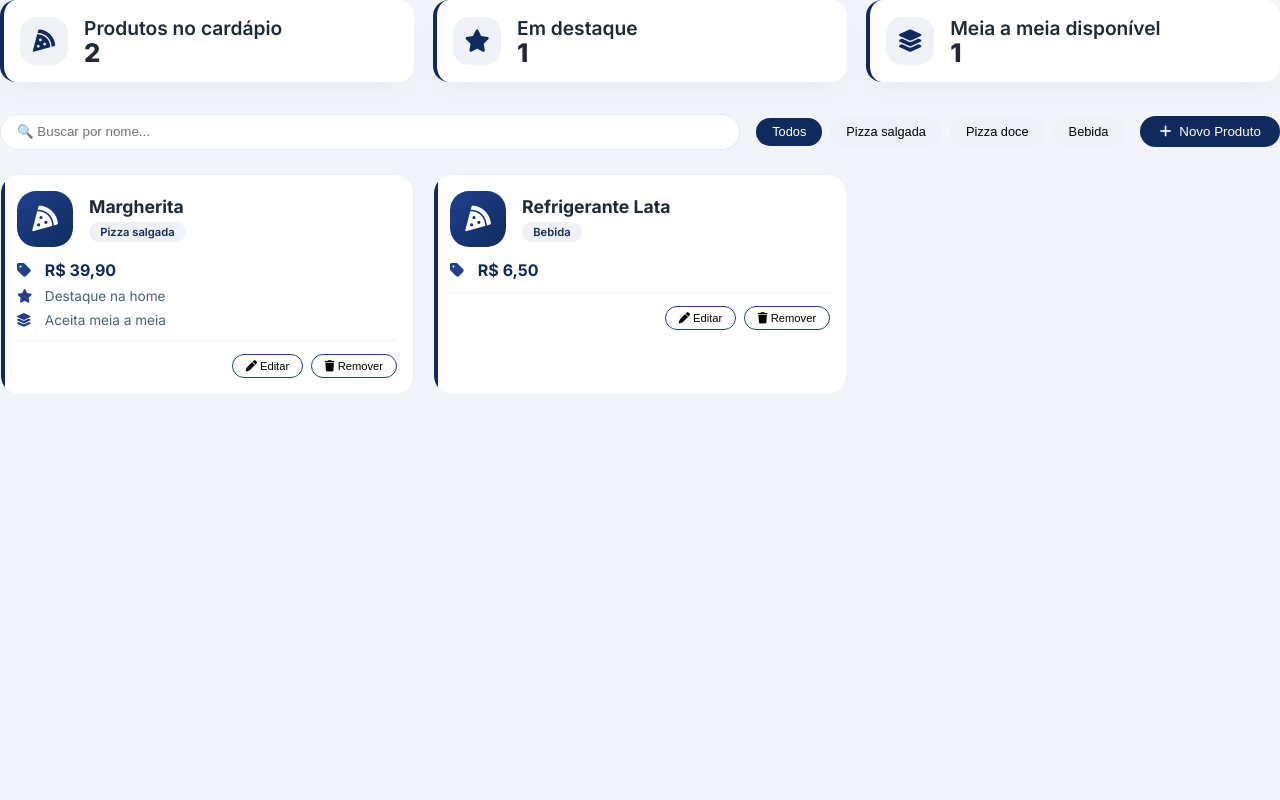
Test: ProductsSection (painel admin — cardápio) › salvar com falha do backend: mostra o erro e mantém o modal aberto
The width and height of the screenshot is (1280, 800).
expect the heading "Margherita" is shown: met, box left=89, top=196, right=186, bottom=217
Click the button "Novo Produto" at (1210, 132), box left=1140, top=116, right=1279, bottom=147
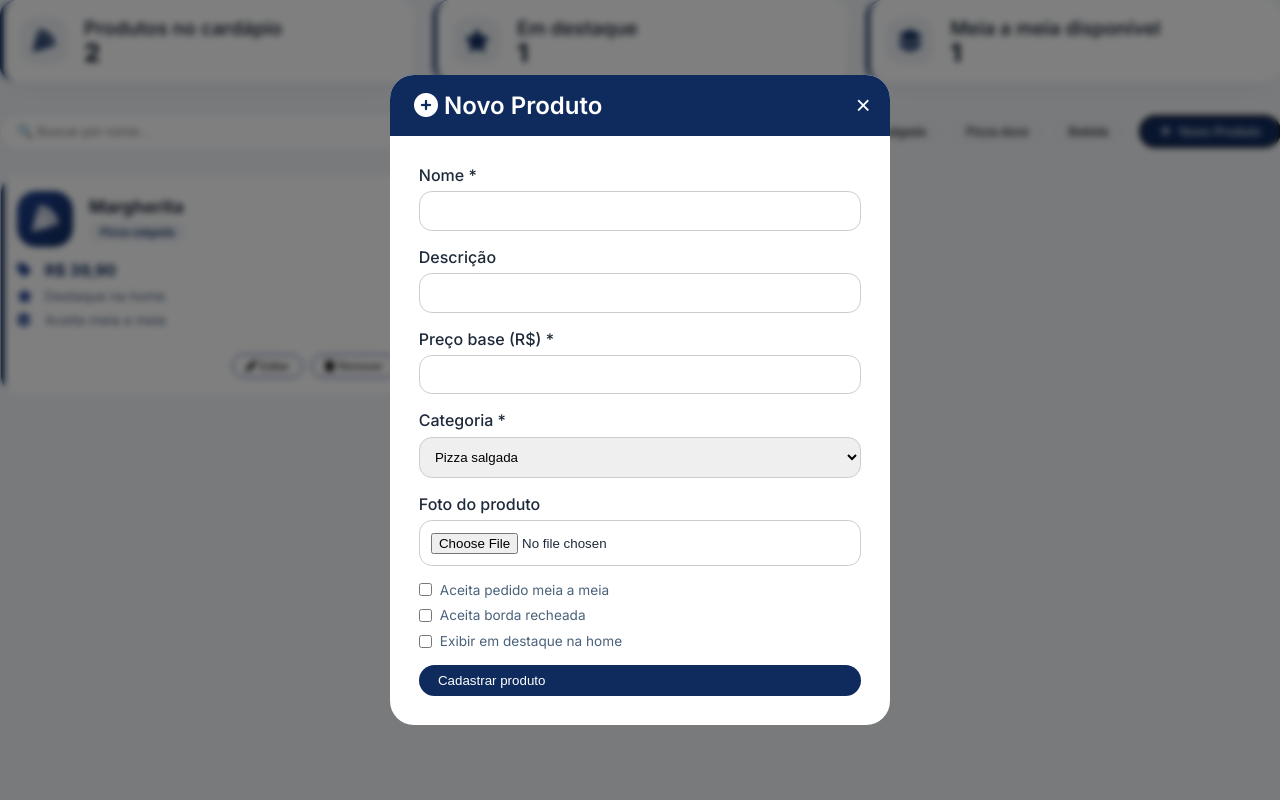
Type "Margherita" into the field labelled "Nome *" at (640, 211), box left=419, top=191, right=861, bottom=231
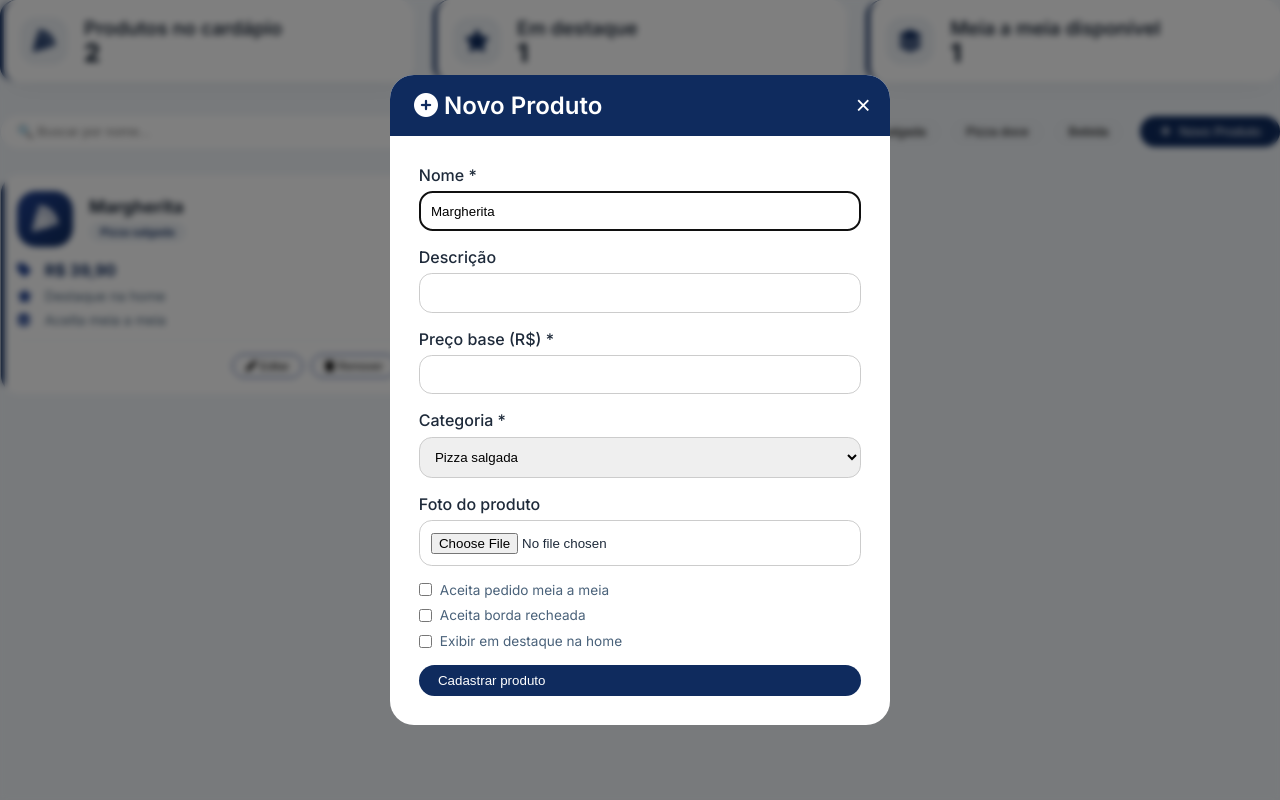
Type "39.9" into the number field labelled "Preço base (R$) *" at (640, 375), box left=419, top=355, right=861, bottom=394
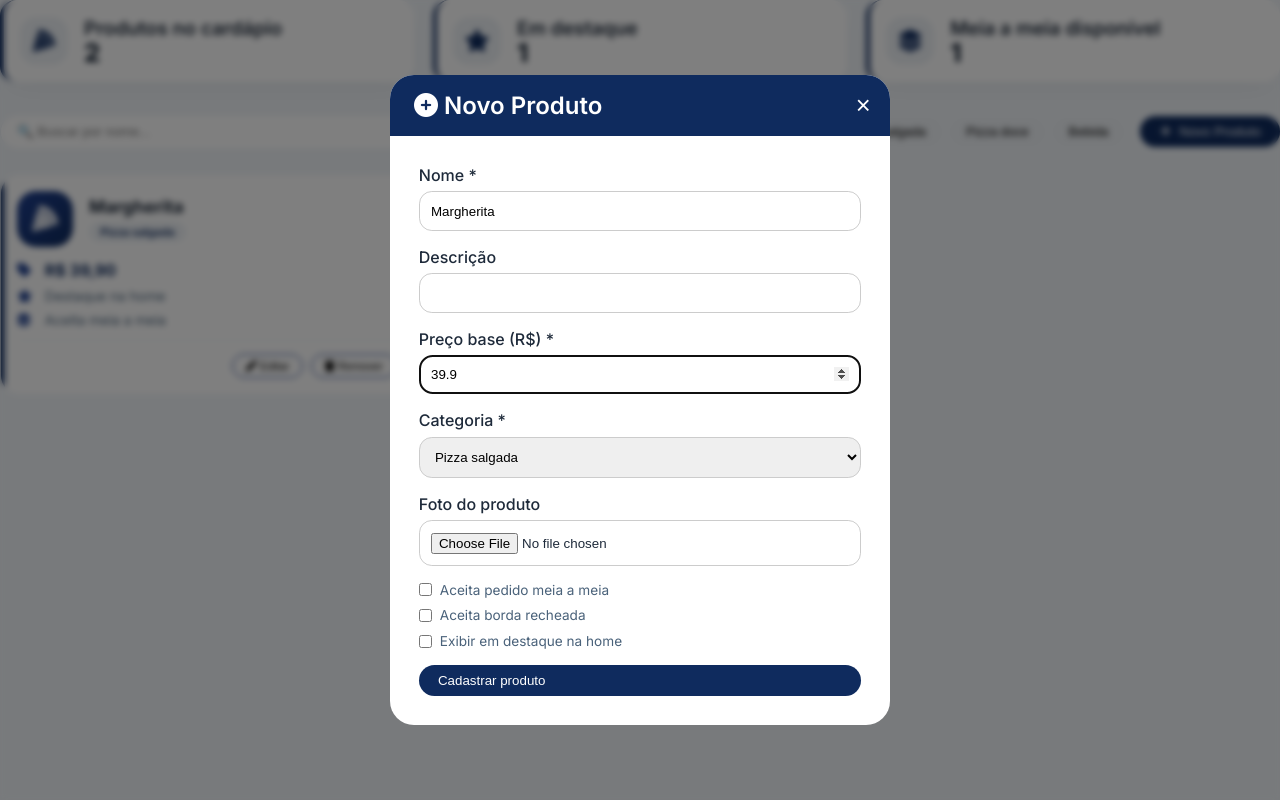
Click the button "Cadastrar produto" at (492, 680), box left=419, top=665, right=861, bottom=696
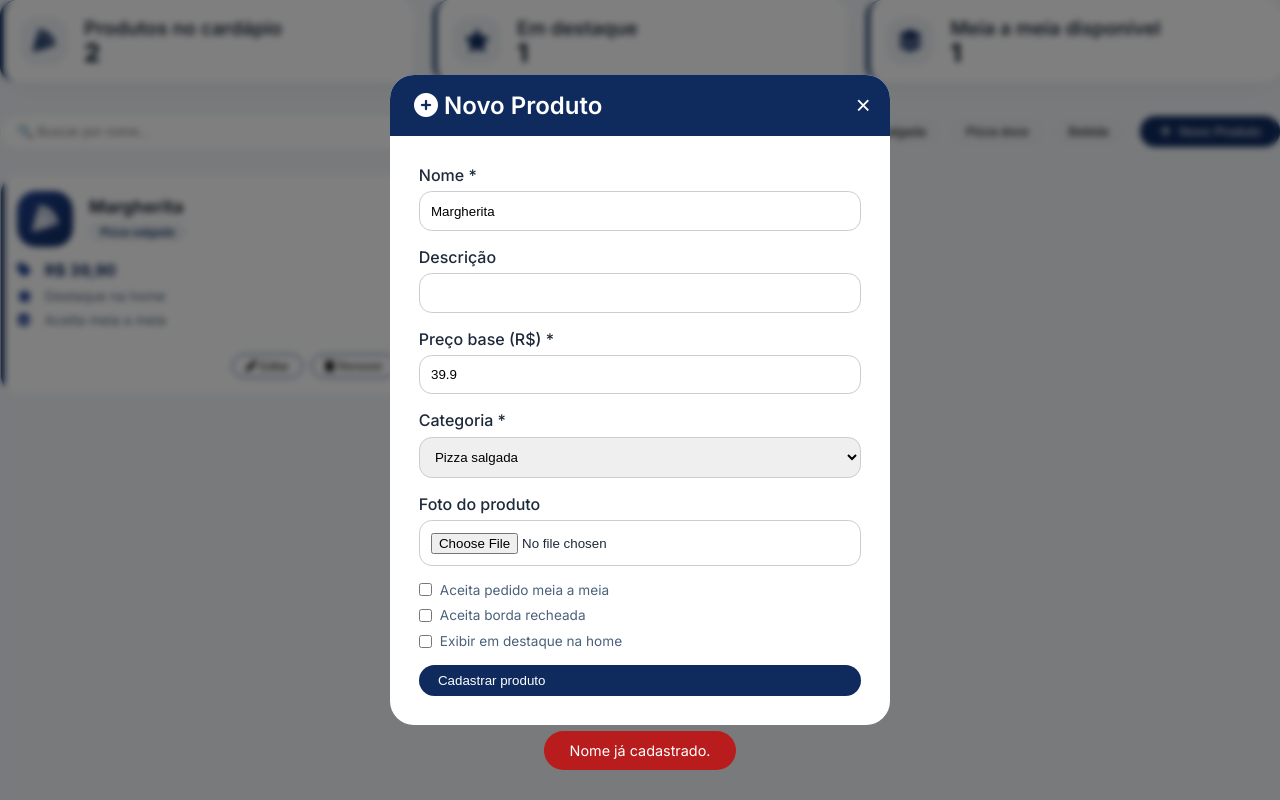
expect the text "Nome já cadastrado." is shown: met, box left=544, top=731, right=736, bottom=770
